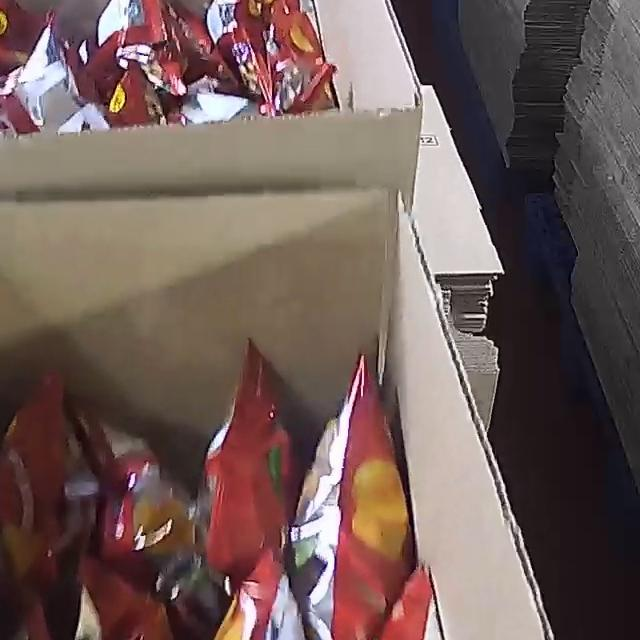masala: (0, 336, 469, 640), (0, 0, 339, 145)
